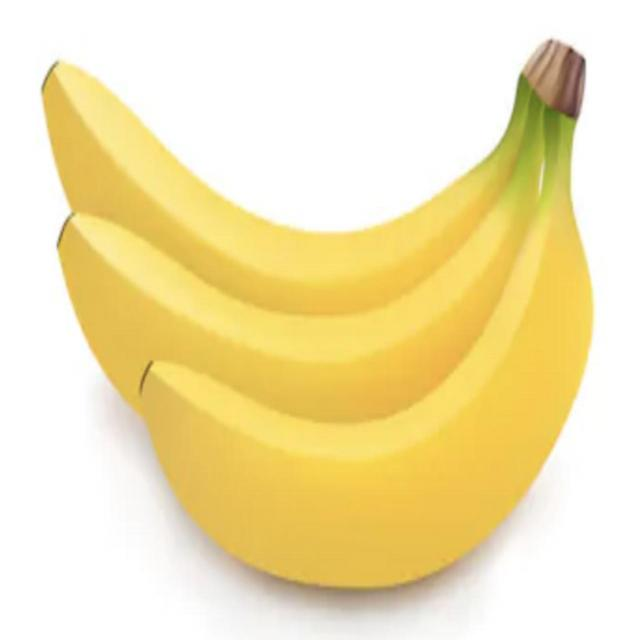banana: (78, 110, 604, 598), (0, 0, 528, 339), (55, 154, 560, 434)
